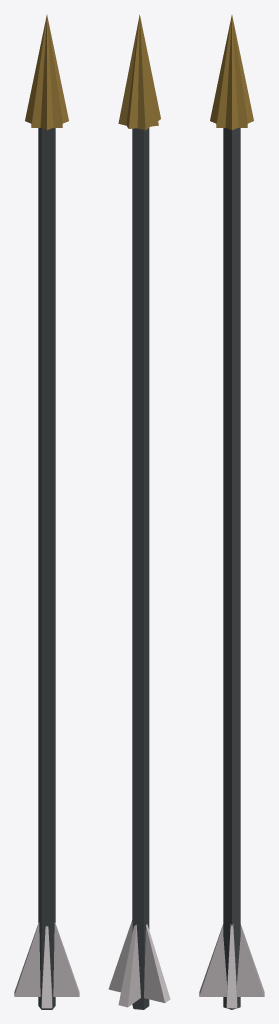
The model's file is _arrow_b_3.glb.
The picture shows the model from 3 angles, left to right: view 1: azimuth 90°, elevation 25°; view 2: azimuth 150°, elevation 25°; view 3: azimuth 270°, elevation 25°; orthographic projection.
Visible parts, largest first — view 1: arrow_b_3; view 2: arrow_b_3; view 3: arrow_b_3.
Part boxes in pixels (<box>): arrow_b_3: <box>14,15,79,1009</box>; arrow_b_3: <box>108,14,170,1009</box>; arrow_b_3: <box>199,15,264,1009</box>.
Bounding box in the file's own units: 1242 × 20762 × 1242.
Materials: 1 (1 with a texture image).
